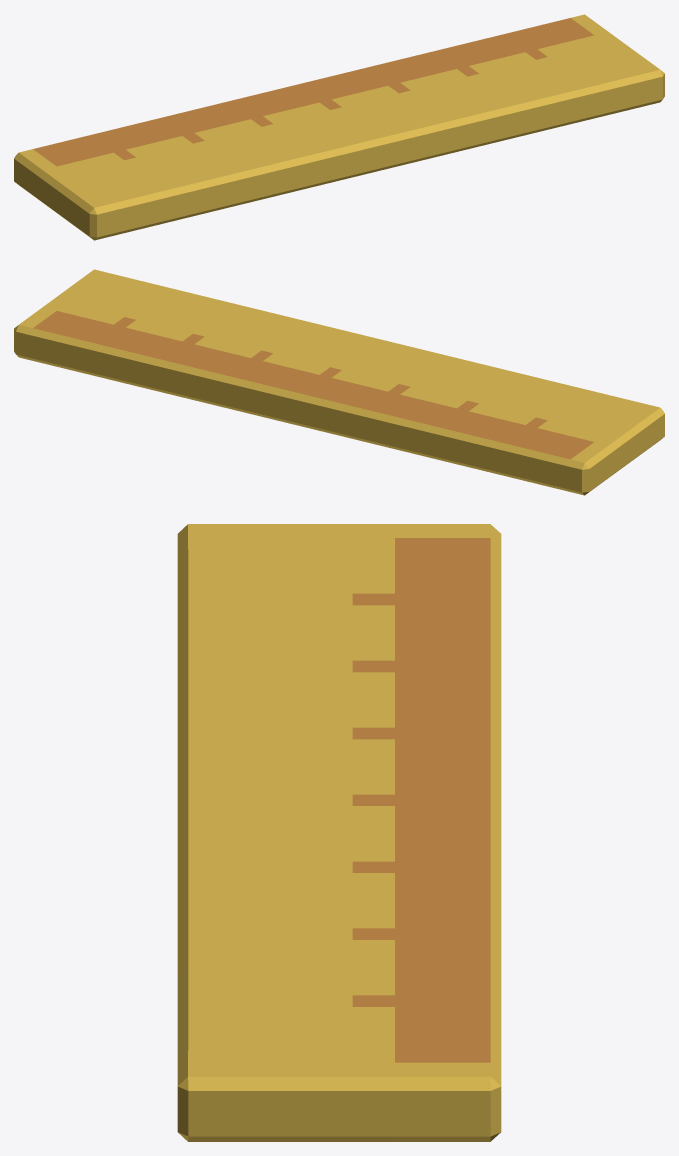
The model's file is rule_01.FBX.
3 renders of one model, top to bottom at view 1: azimuth 30°, elevation 25°; view 2: azimuth 150°, elevation 25°; view 3: azimuth 270°, elevation 25°, orthographic. The views are drawn at different scales.
Parts seen in each view (by area): view 1: rule_01; view 2: rule_01; view 3: rule_01.
Part boxes in pixels (bbox=[...]): rule_01: bbox=[14, 14, 664, 240]; rule_01: bbox=[14, 269, 664, 495]; rule_01: bbox=[177, 524, 501, 1141].
Size of the model in its own units: 1449 by 353 by 78.52.
Materials: 1 (1 with a texture image).
